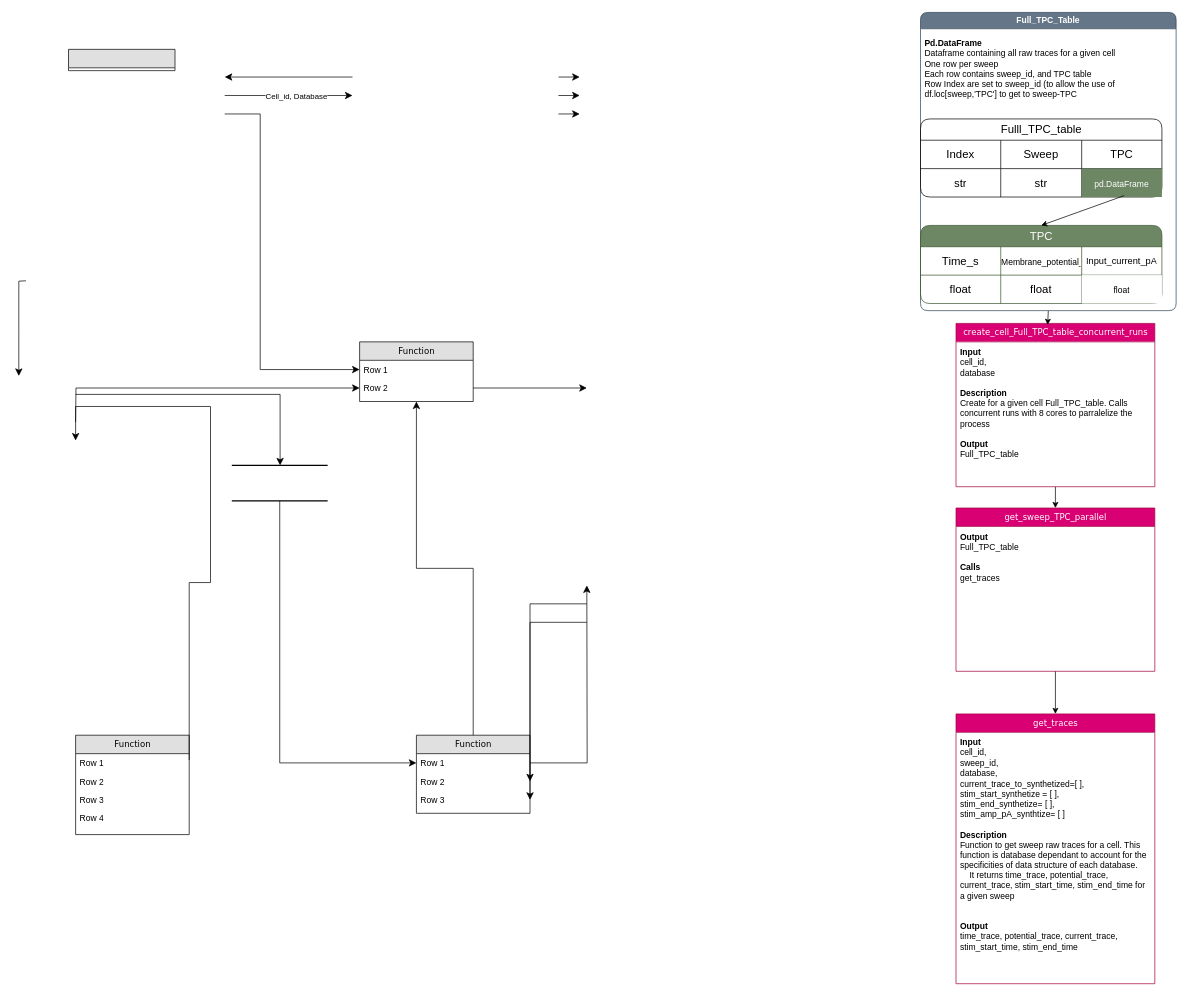
This 1189x996 diagram has some shape labels left out. The shapes that lost their labels are listed below. From the top down, each one's centre as x and y in pixels, then its label:
At [121,60]: "process_cell_data".
At [279,482]: "Object".
